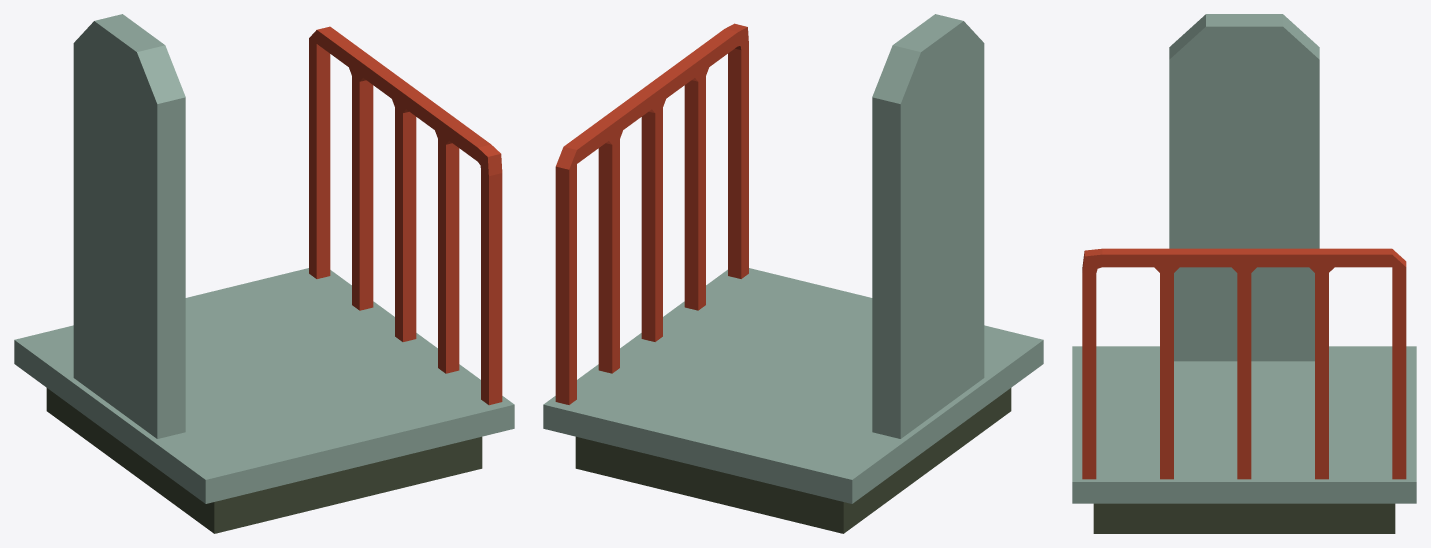
File: Plataforma_flotante_retorno.fbx
3 views of the same model, side by side, from view 1: azimuth 30°, elevation 25°; view 2: azimuth 150°, elevation 25°; view 3: azimuth 270°, elevation 25° (orthographic). The views are drawn at different scales.
Visible parts, largest first — view 1: PicduMidi_barandilla_sotano.004; view 2: PicduMidi_barandilla_sotano.004; view 3: PicduMidi_barandilla_sotano.004.
Boxes of the visible parts, bbox=[...] form: PicduMidi_barandilla_sotano.004: bbox=[14, 14, 514, 533]; PicduMidi_barandilla_sotano.004: bbox=[543, 14, 1043, 533]; PicduMidi_barandilla_sotano.004: bbox=[1072, 14, 1416, 533].
Bounding box in the file's own units: 200 × 272 × 215.
